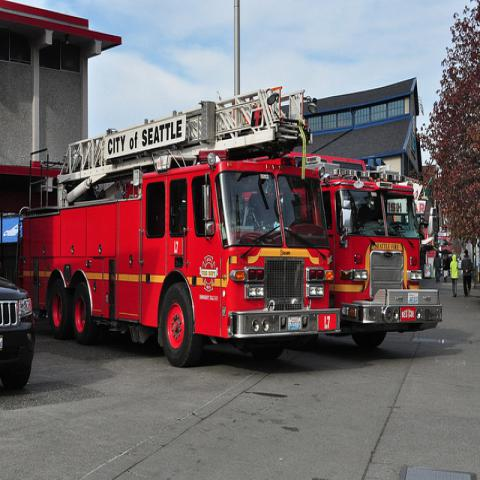truck: (17, 86, 343, 368), (322, 156, 444, 358), (0, 275, 36, 390)
